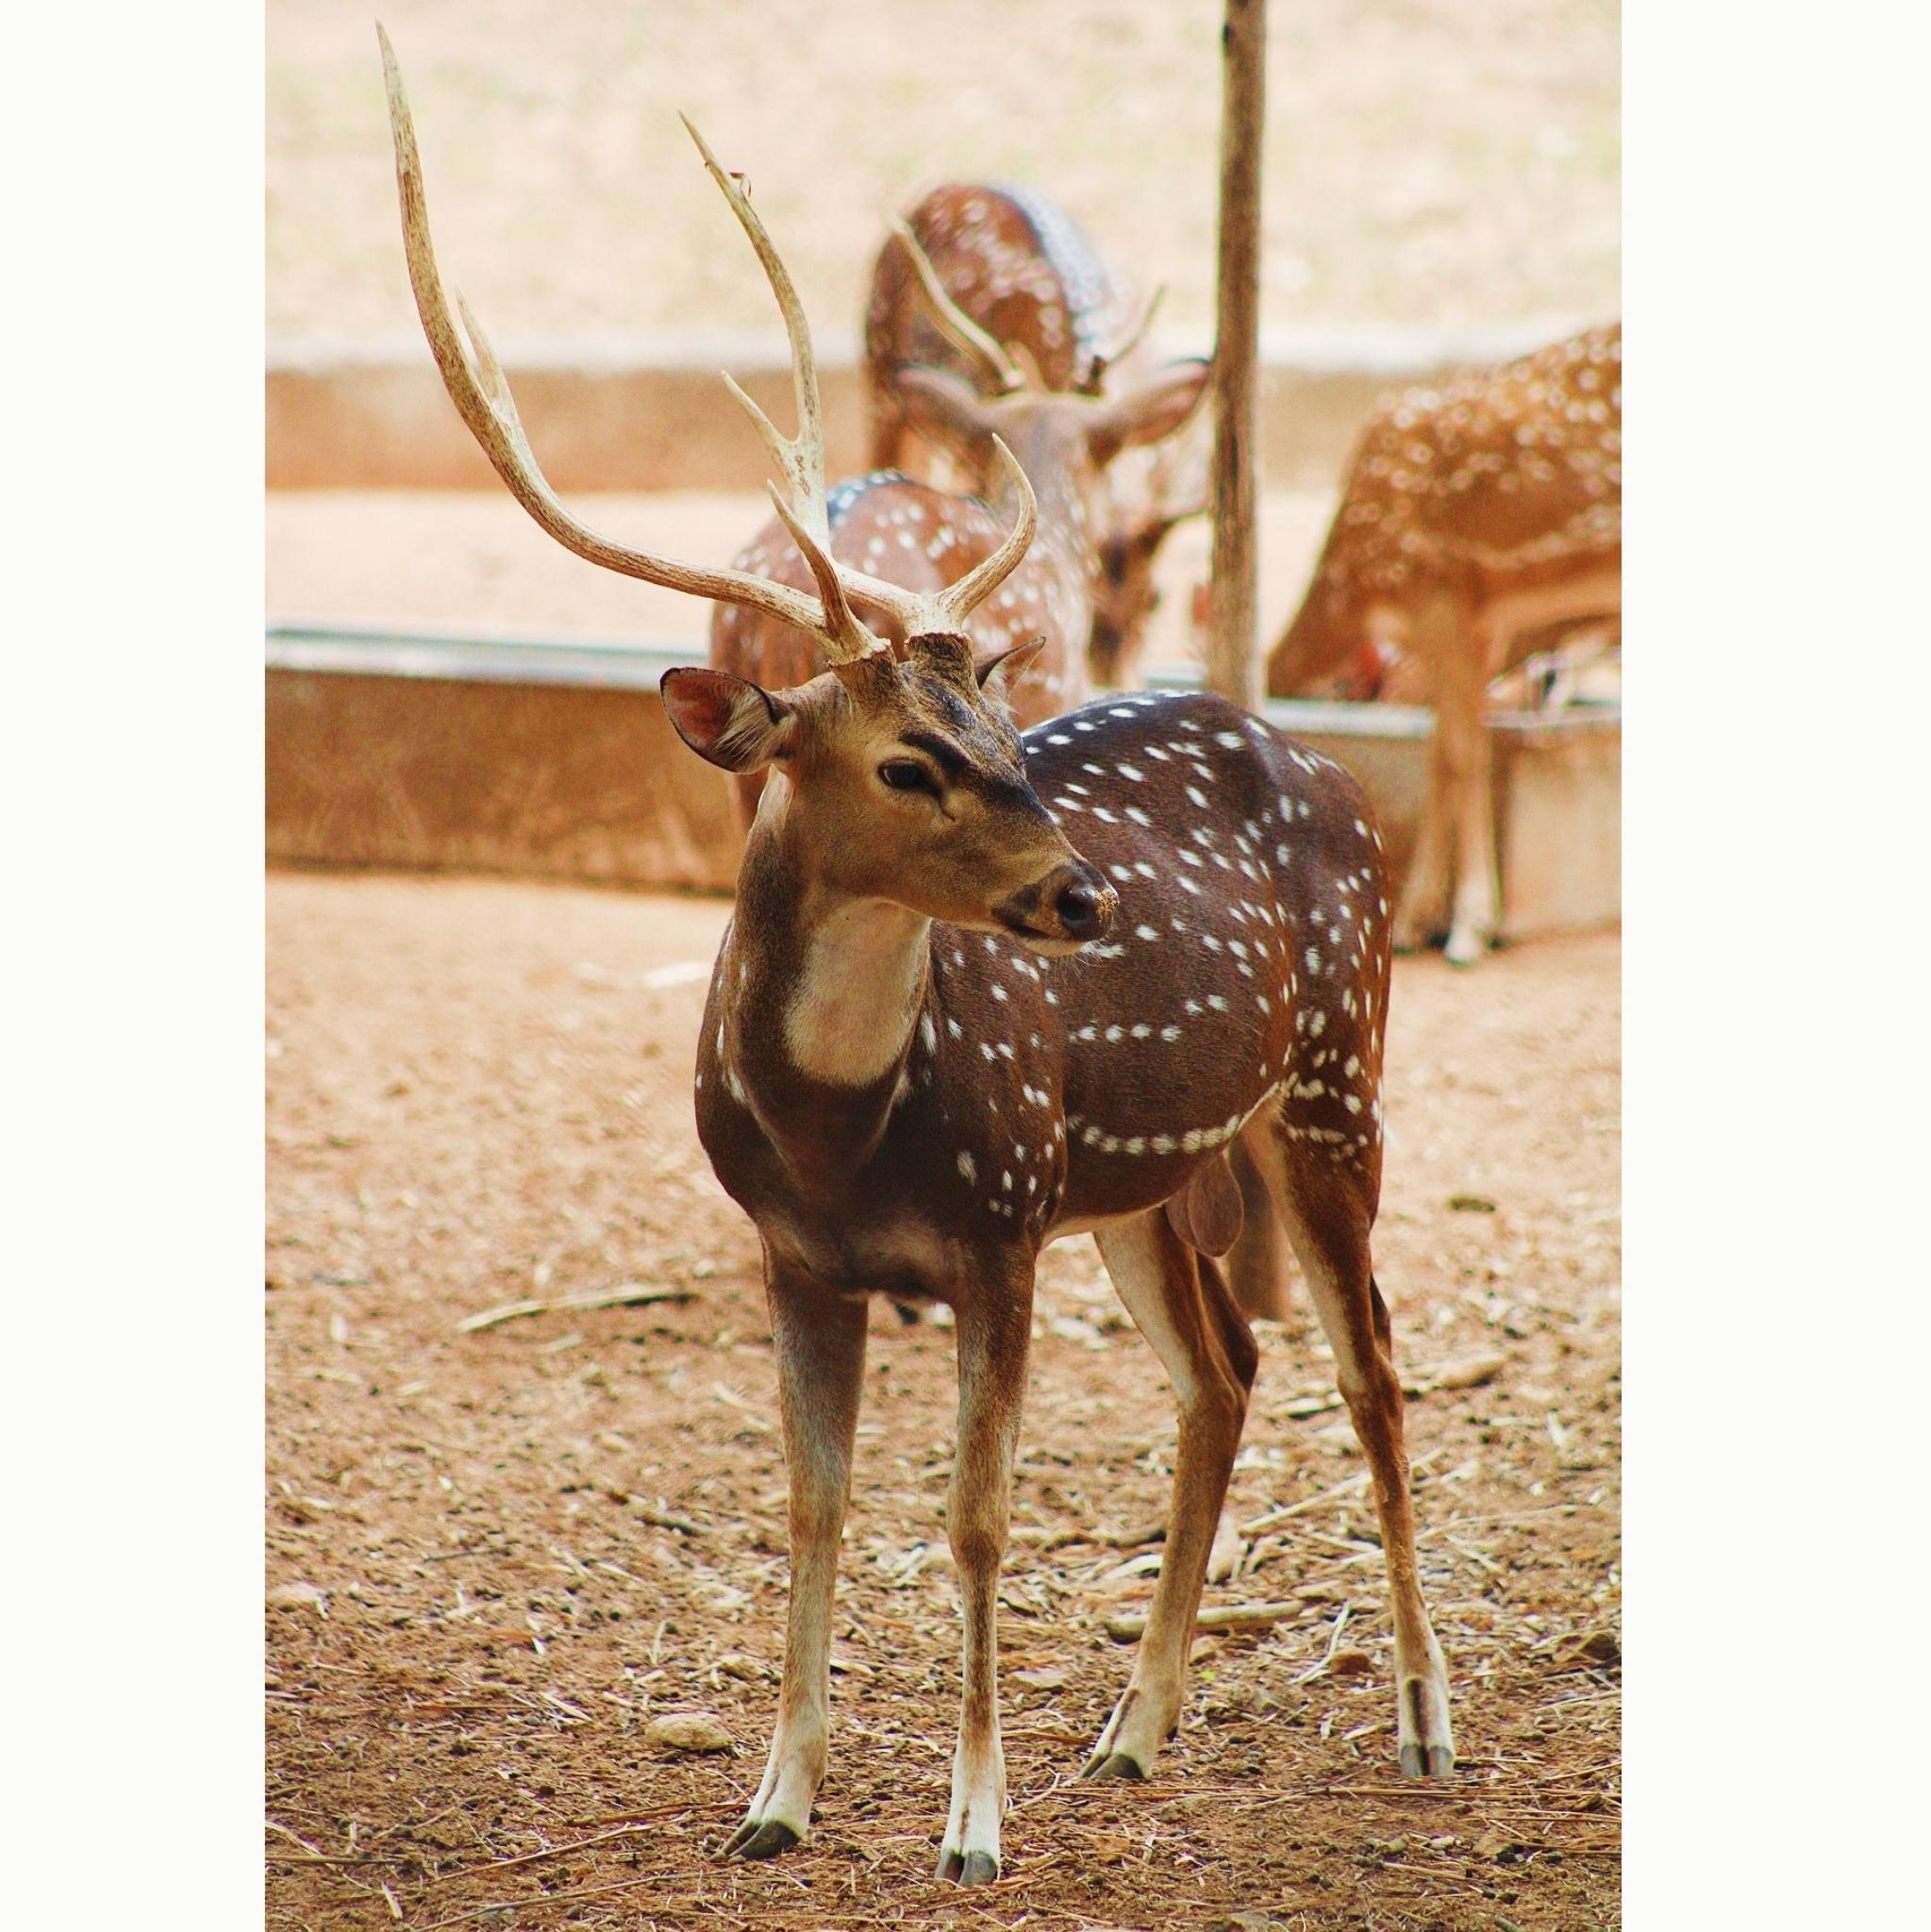Deer: (380, 25, 1454, 1884)
